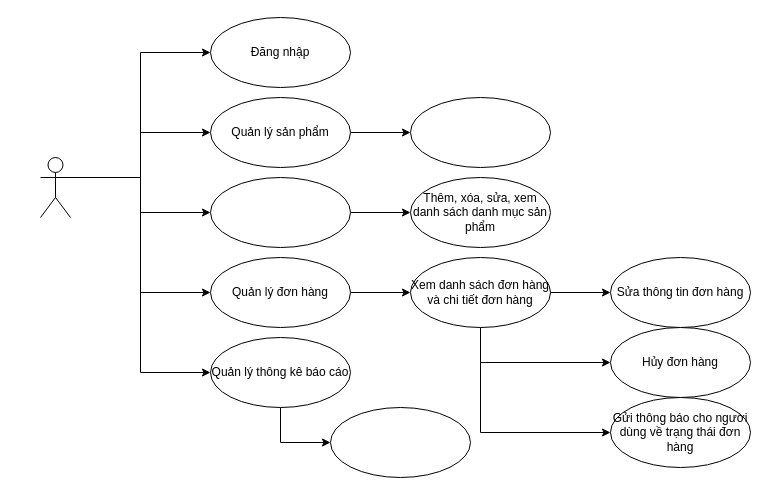
This 768x495 diagram has some shape labels left out. The shapes that lost their labels are listed below. From the top down, each one's box as (x1, y1, x2, y2) in pixels, then its label:
(410, 96, 550, 168): Thêm, xóa, sửa, xem danh sách sản phẩm
(40, 156, 70, 218): Người quản lý
(210, 176, 350, 248): Quản lý danh mục sản phẩm
(330, 406, 470, 478): Xem các thông kê Vd: sản phẩm bán chạy, doanh số, đánh giá sản phẩm, ...
